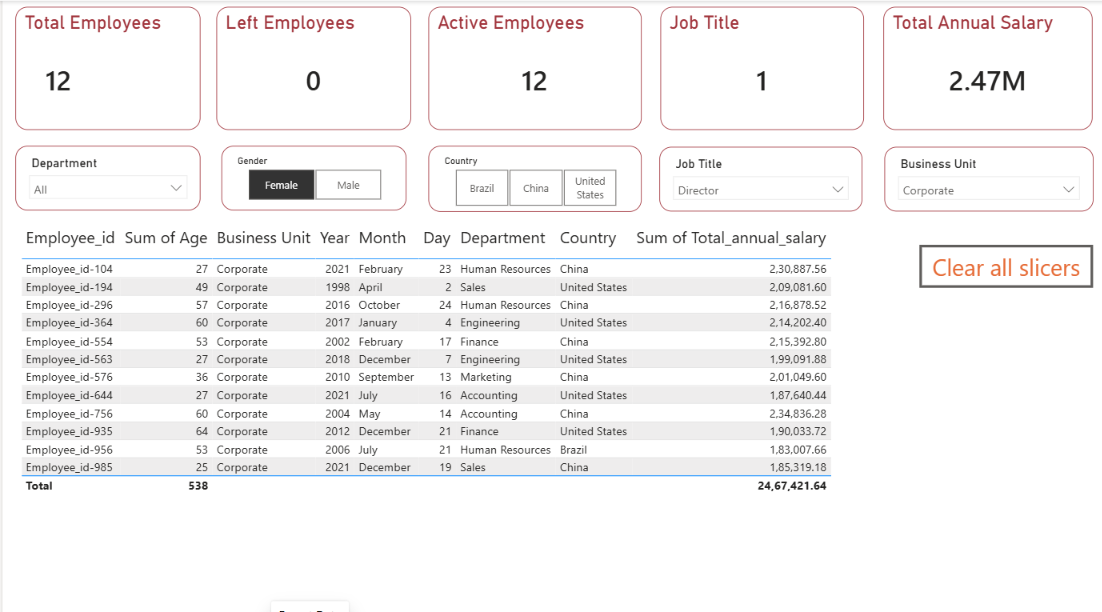

This screenshot's page, from the dashboard's own definition file:
{"tool":"powerbi","page":{"name":"Export Data","canvas":[1280,720],"ordinal":1},"visuals":[{"type":"cardVisual","title":"Total Employees","fields":{"Data":["Count(Employee.Employee_id)"]},"box":[15,6.7,215,143.3],"z":0},{"type":"cardVisual","title":"Left Employees","fields":{"Data":["Sum(Employee.leftData)"]},"box":[248.3,6.7,226.7,143.3],"z":1000},{"type":"cardVisual","title":"Active Employees","fields":{"Data":["Employee.ActiveCount"]},"box":[495,6.7,248.3,143.3],"z":2000},{"type":"cardVisual","title":"Job Title","fields":{"Data":["Count(Employee.Job Title)"]},"box":[765,6.7,236.7,143.3],"z":3000},{"type":"cardVisual","title":"Total Annual Salary","fields":{"Data":["Sum(Employee.Total_annual_salary)"]},"box":[1025,6.7,243.3,143.3],"z":4000},{"type":"slicer","fields":{"Values":["Employee.Gender"]},"box":[255.2,168.8,215.4,75.5],"z":5000},{"type":"slicer","fields":{"Values":["Employee.Department"]},"box":[15.1,168.8,215.4,75.5],"z":6000},{"type":"slicer","fields":{"Values":["Employee.Country"]},"box":[495.4,168.8,248.4,76.8],"z":7000},{"type":"slicer","fields":{"Values":["Employee.Job Title"]},"box":[764.3,170.2,236,75.5],"z":8000},{"type":"slicer","fields":{"Values":["Employee.Business Unit"]},"box":[1025,170.2,242.9,75.5],"z":9000},{"type":"tableEx","fields":{"Values":["Employee.Employee_id","Sum(Employee.Age)","Employee.Business Unit","Employee.Hire Date.Variation.Date Hierarchy.Year","Employee.Hire Date.Variation.Date Hierarchy.Month","Employee.Hire Date.Variation.Date Hierarchy.Day","Employee.Department","Employee.Country","Sum(Employee.Total_annual_salary)"]},"box":[16,256,1050,442],"z":9001},{"type":"actionButton","box":[1066,284,202,50],"z":9002}]}

Visuals, with their boxes in screenshot pixels (x1, y1, x2, y2), scaled from the page's 1280x720 canvas onto the 1102x612 screenshot:
"Total Employees" cardVisual: l=13, t=6, r=198, b=128
"Left Employees" cardVisual: l=214, t=6, r=409, b=128
"Active Employees" cardVisual: l=426, t=6, r=640, b=128
"Job Title" cardVisual: l=659, t=6, r=862, b=128
"Total Annual Salary" cardVisual: l=882, t=6, r=1092, b=128
slicer - Employee.Gender: l=220, t=143, r=405, b=208
slicer - Employee.Department: l=13, t=143, r=198, b=208
slicer - Employee.Country: l=427, t=143, r=640, b=209
slicer - Employee.Job Title: l=658, t=145, r=861, b=209
slicer - Employee.Business Unit: l=882, t=145, r=1092, b=209
tableEx - Employee.Employee_id x Sum(Employee.Age): l=14, t=218, r=918, b=593
actionButton: l=918, t=241, r=1092, b=284
